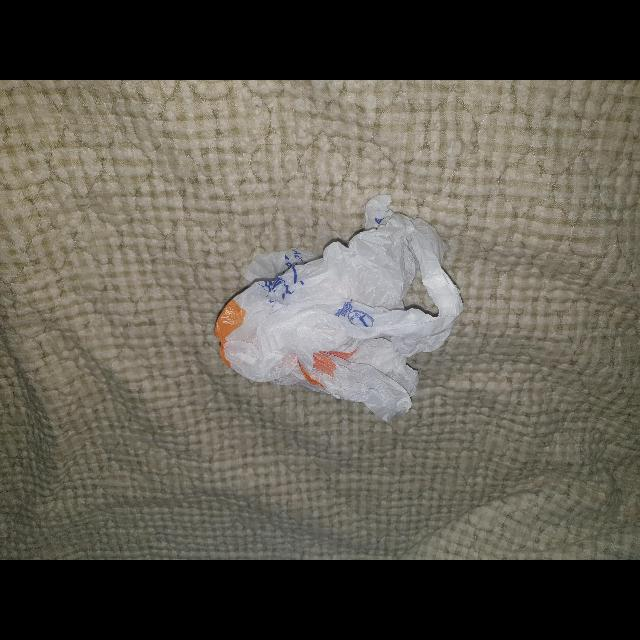sacola plástica: (211, 194, 463, 422)
